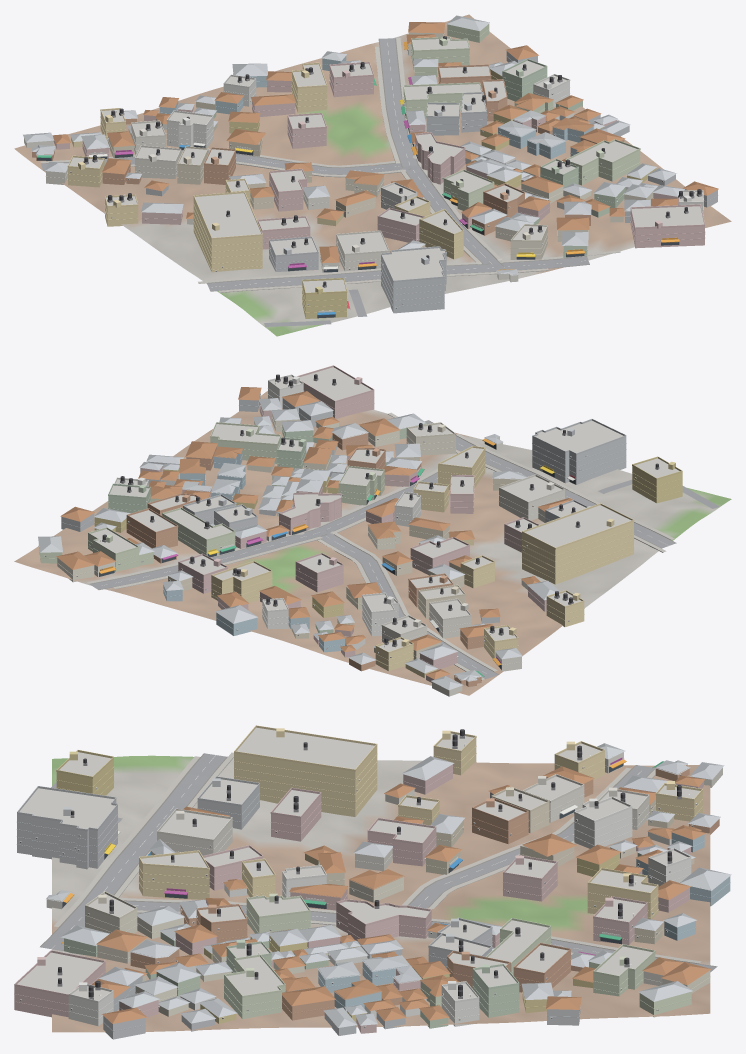
3 renders of one model, top to bottom at view 1: azimuth 30°, elevation 25°; view 2: azimuth 150°, elevation 25°; view 3: azimuth 270°, elevation 25°, orthographic. The views are drawn at different scales.
Visible parts, largest first — view 1: Buildings-col, Terrain-col, Details, Roads-col, Sidewalks-col; view 2: Buildings-col, Terrain-col, Details, Roads-col, Sidewalks-col; view 3: Buildings-col, Terrain-col, Details, Roads-col, Sidewalks-col.
Boxes of the visible parts, x1,y1,x2,y2 form: Buildings-col: (23,15,718,318); Terrain-col: (14,14,731,336); Details: (36,29,718,318); Roads-col: (41,38,589,326); Sidewalks-col: (40,38,620,292); Buildings-col: (38,367,682,696); Terrain-col: (14,391,731,695); Details: (38,365,682,677); Roads-col: (89,420,719,679); Sidewalks-col: (87,412,674,680); Buildings-col: (14,727,731,1039); Terrain-col: (52,755,710,1032); Details: (14,725,730,1031); Roads-col: (40,753,717,972); Sidewalks-col: (54,752,701,963).
Bounding box in the file's own units: 270 × 23.98 × 279.
